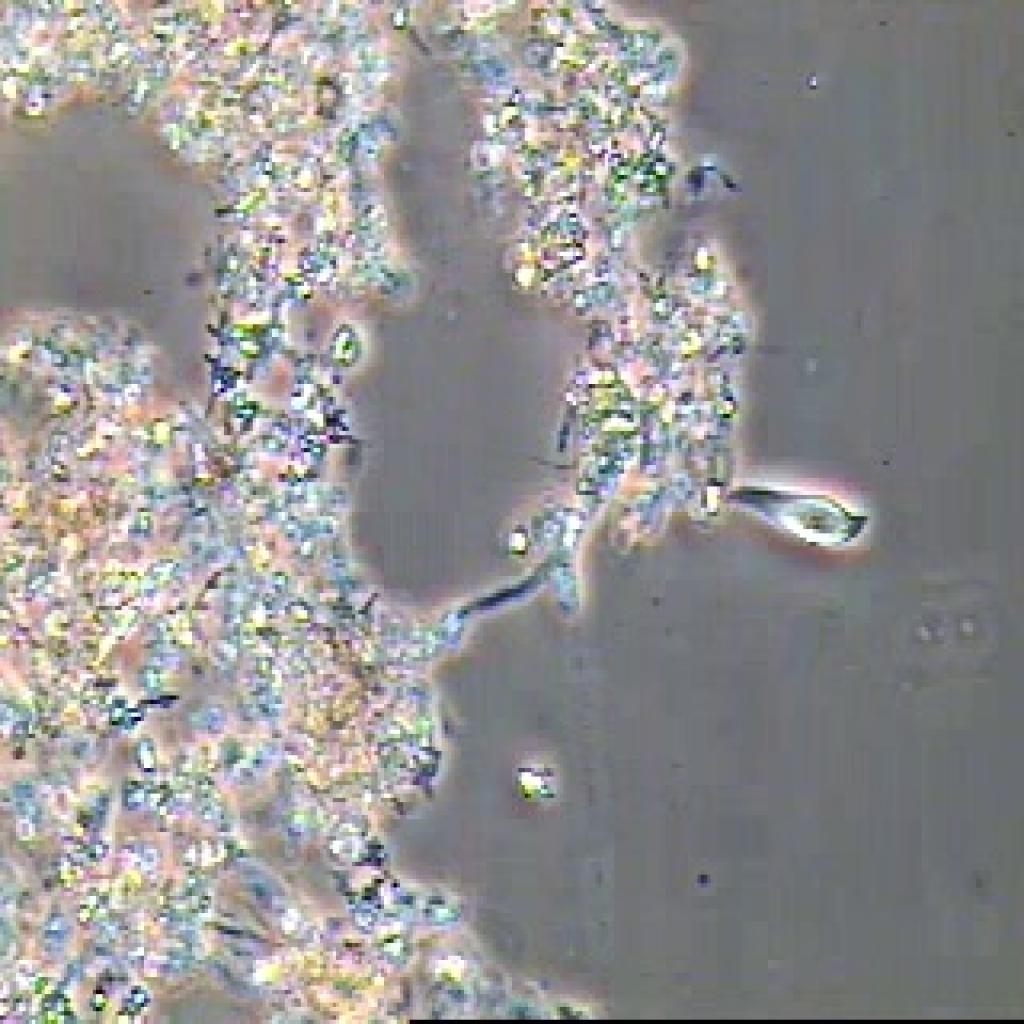Pristina: (722, 469, 872, 555)
